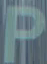Parking: (3, 2, 42, 63)
